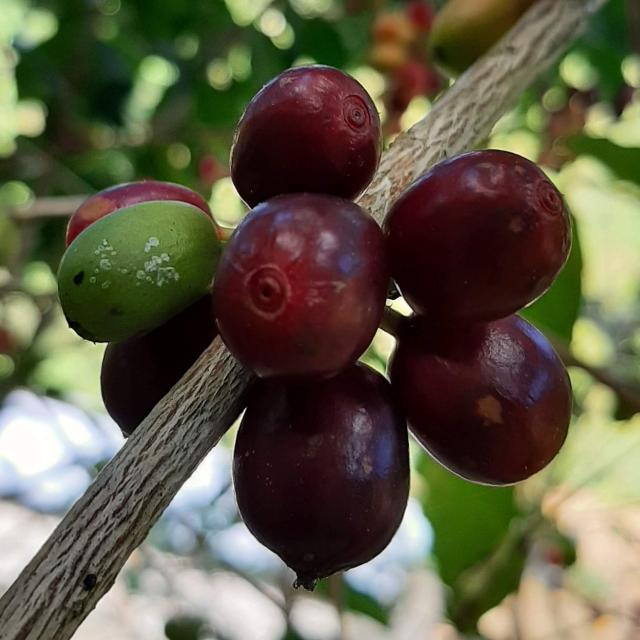green: (56, 201, 221, 342)
red: (233, 364, 410, 591), (212, 193, 390, 380), (385, 149, 572, 326), (388, 314, 573, 486), (230, 64, 382, 207), (100, 295, 217, 437), (65, 180, 212, 246)
